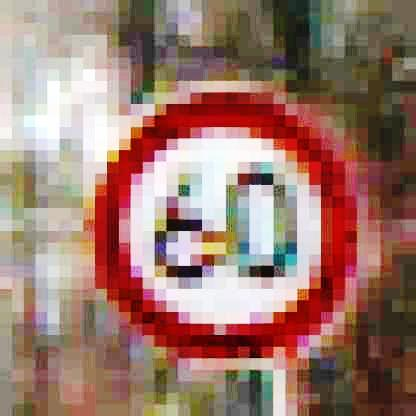Speed Limit -60-: (92, 88, 361, 361)
